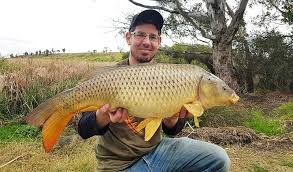carp: (24, 61, 242, 153)
